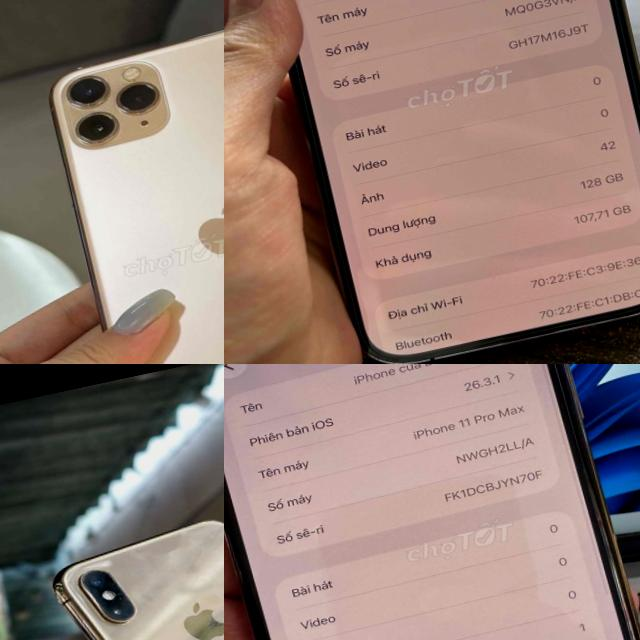gen_11: (224, 364, 640, 640), (29, 0, 224, 364)
gen_14: (237, 0, 640, 364)
gen_x_xs: (54, 521, 224, 640)
